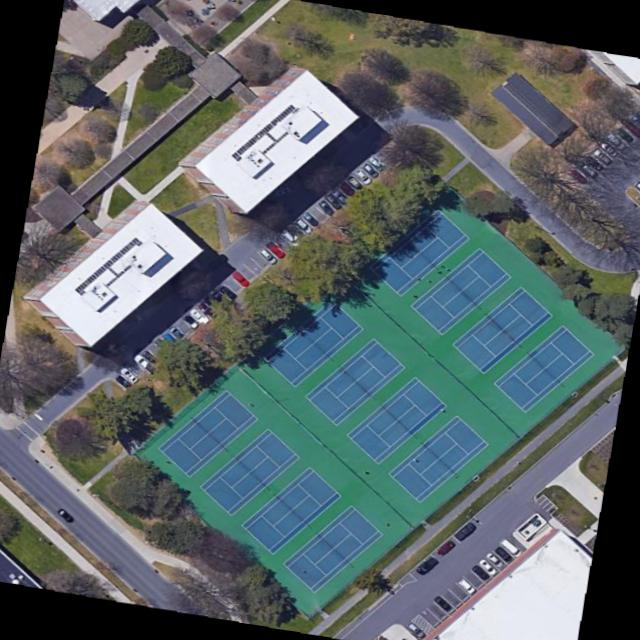small-vehicle: (130, 353, 157, 377), (497, 537, 522, 560), (275, 226, 301, 248), (575, 159, 598, 181), (580, 155, 604, 176), (451, 522, 475, 543), (483, 551, 506, 572), (413, 557, 437, 577), (590, 147, 612, 168), (186, 306, 209, 326), (351, 168, 373, 187), (364, 155, 386, 174), (613, 127, 635, 146), (117, 366, 139, 385), (433, 539, 455, 558), (256, 247, 278, 266), (565, 169, 588, 187), (263, 241, 286, 259), (476, 557, 496, 577), (335, 180, 356, 199), (606, 132, 627, 151), (492, 546, 513, 565), (456, 577, 476, 596), (469, 564, 489, 583), (151, 337, 172, 355), (216, 284, 237, 302), (404, 622, 425, 640), (330, 189, 350, 207), (359, 162, 379, 180), (112, 374, 132, 392), (292, 217, 312, 235), (299, 211, 320, 228), (431, 596, 452, 613), (343, 174, 362, 192), (599, 141, 618, 159), (622, 121, 640, 140), (323, 193, 342, 211), (179, 313, 198, 331), (315, 199, 335, 216), (229, 271, 249, 288), (210, 291, 229, 308), (139, 350, 159, 366), (56, 508, 74, 524), (196, 303, 215, 318), (167, 327, 183, 340), (272, 186, 290, 197), (631, 112, 640, 128), (632, 180, 640, 193)
